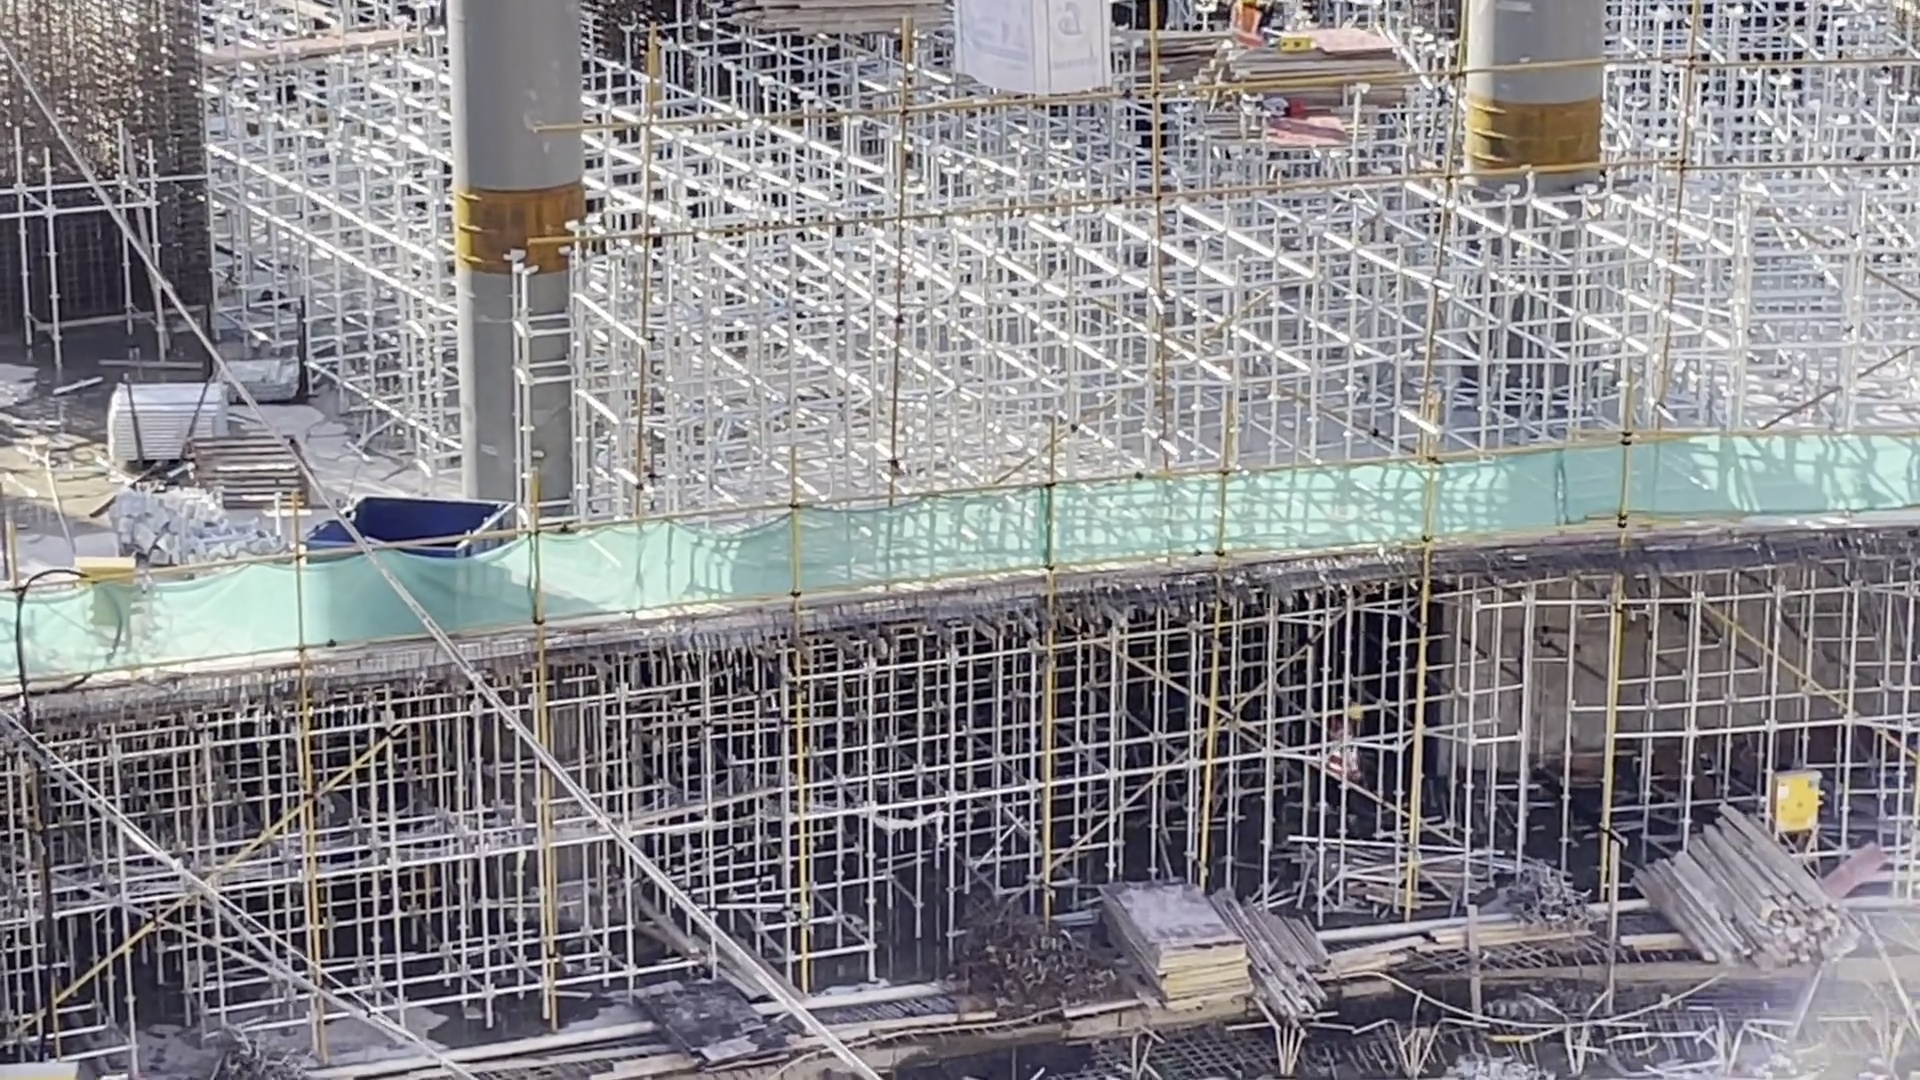board: (1101, 876, 1261, 1011), (1225, 24, 1410, 104)
ebox: (1762, 764, 1826, 837), (69, 556, 137, 574)
hopper: (291, 493, 522, 539)
scaffold: (103, 380, 233, 439)
vest: (1232, 7, 1265, 49)
wood: (1623, 800, 1851, 975), (1259, 899, 1337, 1021), (712, 1, 953, 38)
